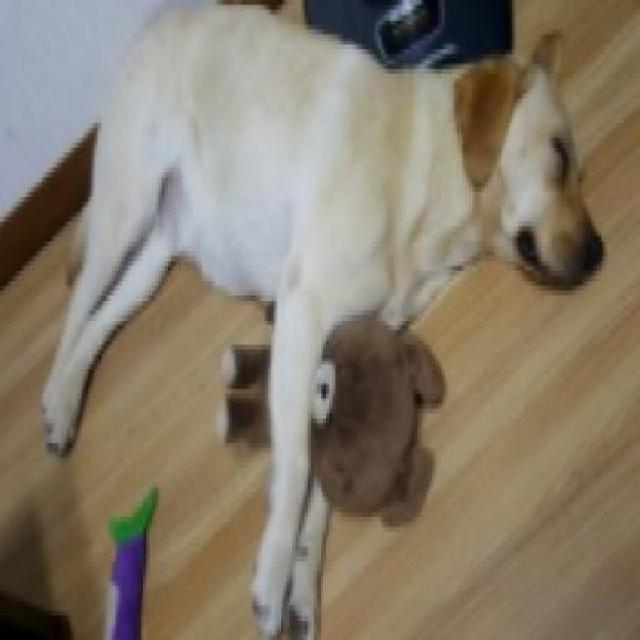Dog: (40, 0, 606, 635)
